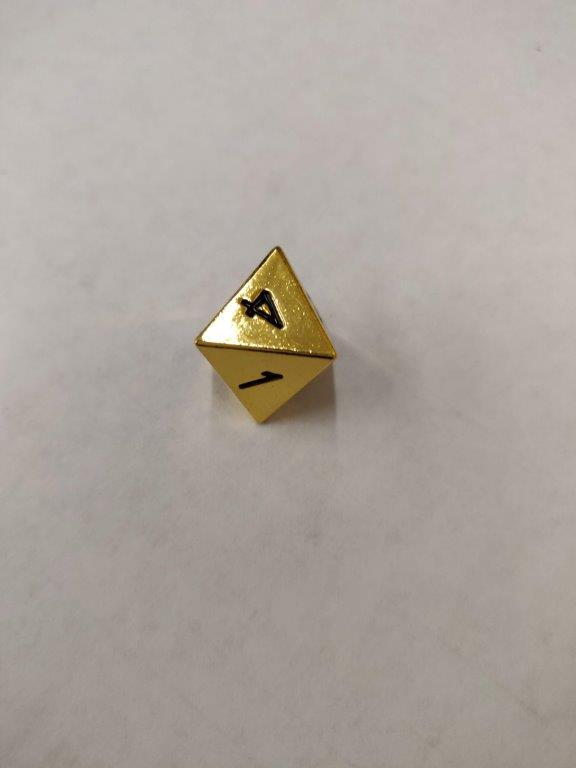d8-4: (193, 240, 339, 427)
